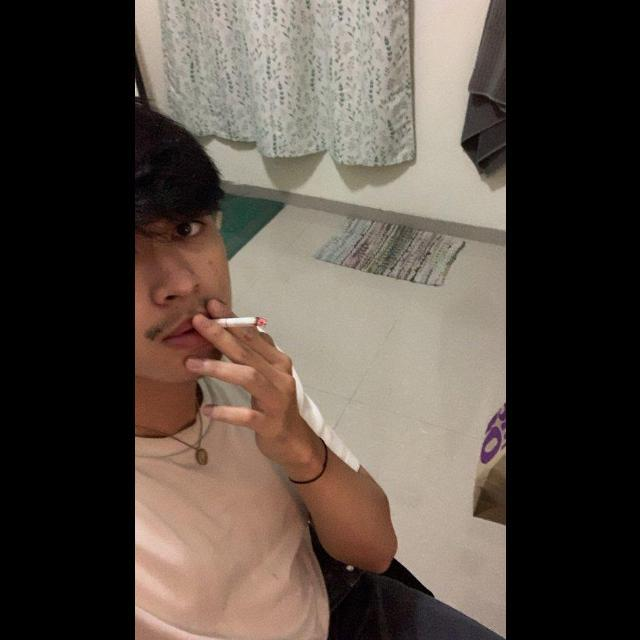rokok: (208, 310, 266, 332)
